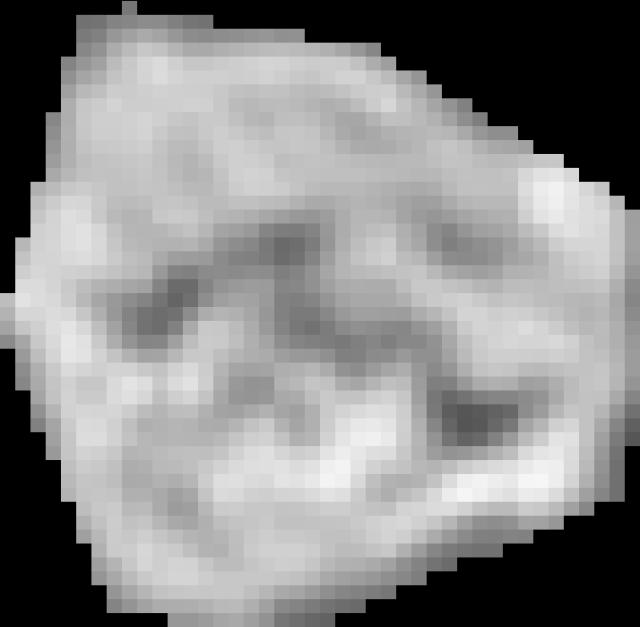tumor_good_chance: (0, 1, 640, 627)
